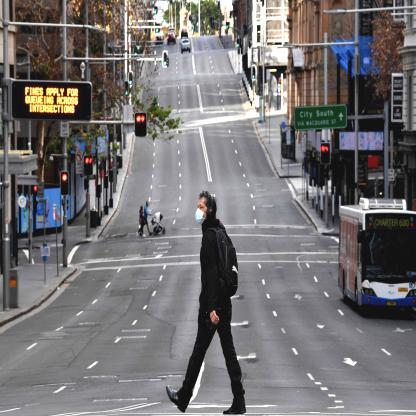person: (166, 186, 246, 416)
